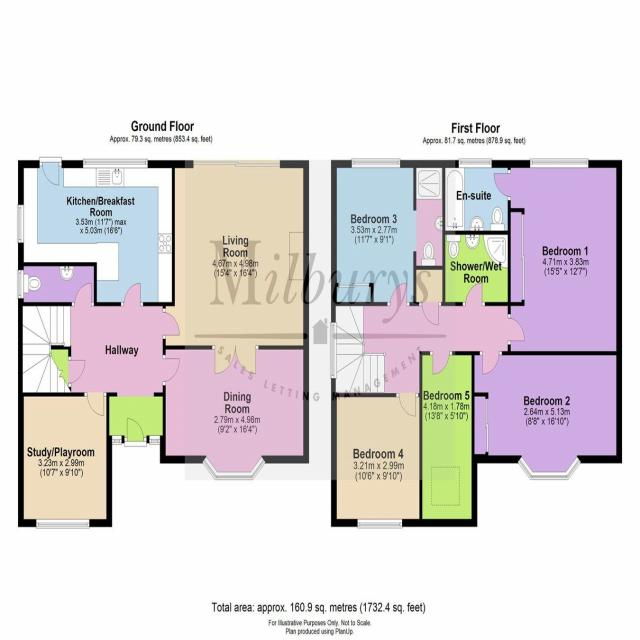DOOR: (39, 156, 63, 186), (124, 417, 147, 448), (395, 393, 419, 418), (83, 392, 107, 417), (479, 351, 503, 375), (429, 351, 453, 375), (462, 282, 486, 306), (493, 169, 511, 201), (162, 354, 180, 386), (162, 308, 180, 340), (68, 356, 86, 388), (120, 282, 144, 306), (387, 282, 410, 306), (71, 282, 94, 306)
DOUBLE DOOR: (212, 345, 259, 375), (507, 313, 525, 346)
ROOM: (163, 160, 309, 375), (493, 158, 622, 356), (17, 156, 175, 307), (160, 345, 309, 482), (471, 351, 623, 481), (18, 392, 112, 529), (330, 158, 417, 306), (331, 392, 423, 530), (419, 351, 478, 528)
SLIDING DOOR: (193, 160, 281, 169)
WINDOW: (201, 454, 267, 482), (517, 455, 582, 481), (82, 158, 148, 169), (529, 157, 589, 169), (35, 518, 90, 529), (357, 518, 403, 530), (351, 158, 401, 169), (329, 321, 338, 379), (458, 158, 493, 169), (16, 204, 25, 244), (17, 269, 24, 299), (149, 435, 161, 445), (112, 435, 122, 445)
